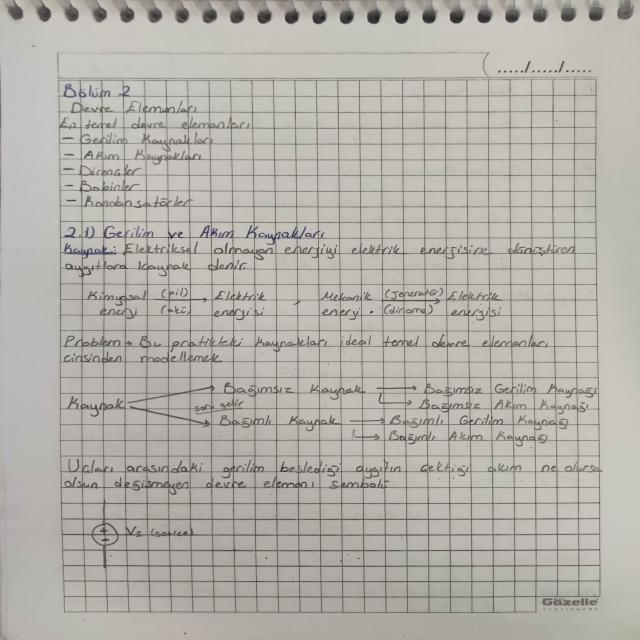image: (76, 496, 205, 567)
text: (53, 78, 258, 210), (61, 237, 582, 273), (55, 456, 606, 490), (58, 331, 557, 366), (380, 380, 602, 442), (190, 378, 364, 428), (81, 280, 278, 322), (313, 283, 507, 321), (60, 222, 327, 240), (59, 390, 130, 416)
